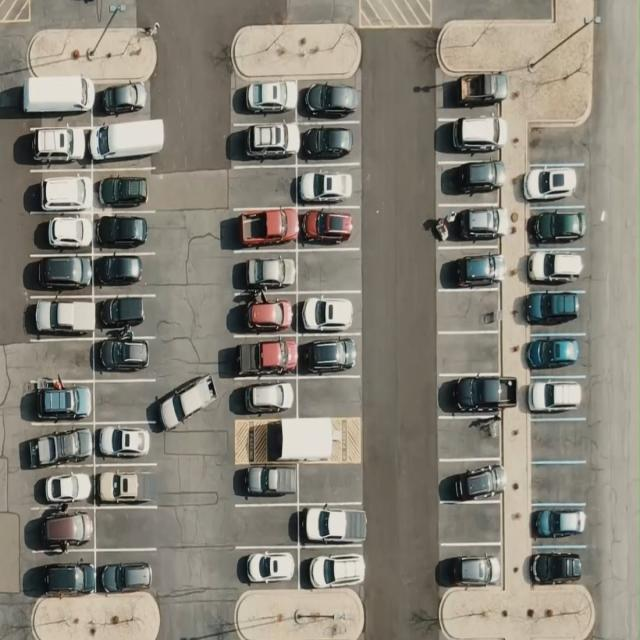space-empty: (24, 337, 94, 384), (232, 502, 299, 548), (440, 414, 507, 460), (438, 287, 502, 334), (228, 164, 294, 209), (438, 331, 502, 377), (296, 375, 361, 420), (438, 502, 502, 547), (96, 507, 162, 550), (93, 381, 158, 424), (296, 248, 360, 291), (298, 462, 360, 505), (528, 418, 590, 461), (528, 461, 590, 504), (528, 125, 584, 164)
space-occupied: (438, 368, 516, 421), (90, 115, 165, 166), (437, 110, 510, 158), (298, 498, 365, 550), (520, 158, 588, 209), (23, 118, 90, 169), (26, 374, 94, 424), (432, 65, 500, 114), (436, 160, 506, 206), (435, 202, 506, 247), (229, 120, 298, 166), (231, 542, 300, 588), (226, 336, 298, 380), (226, 206, 296, 251), (230, 249, 297, 296), (28, 462, 96, 508), (436, 246, 504, 292), (26, 166, 91, 214), (522, 286, 586, 334), (94, 462, 162, 507), (28, 552, 96, 596), (26, 420, 94, 464), (524, 206, 590, 251), (27, 507, 96, 550), (26, 290, 93, 334), (92, 167, 156, 213), (95, 550, 156, 598), (26, 254, 94, 297), (298, 288, 360, 335), (231, 78, 297, 122), (524, 248, 591, 291), (439, 460, 504, 504), (437, 546, 502, 590), (524, 332, 590, 375), (298, 333, 361, 378), (236, 461, 299, 506), (232, 290, 299, 332), (92, 421, 154, 466), (524, 373, 586, 418), (296, 164, 359, 208), (30, 212, 93, 256), (94, 336, 156, 380), (93, 210, 156, 253), (20, 84, 93, 121), (298, 205, 358, 250), (300, 121, 360, 165), (93, 253, 154, 296), (530, 501, 588, 546), (300, 80, 360, 123), (94, 294, 154, 337), (232, 381, 299, 418), (529, 546, 589, 586), (302, 555, 364, 591), (95, 85, 155, 120)
